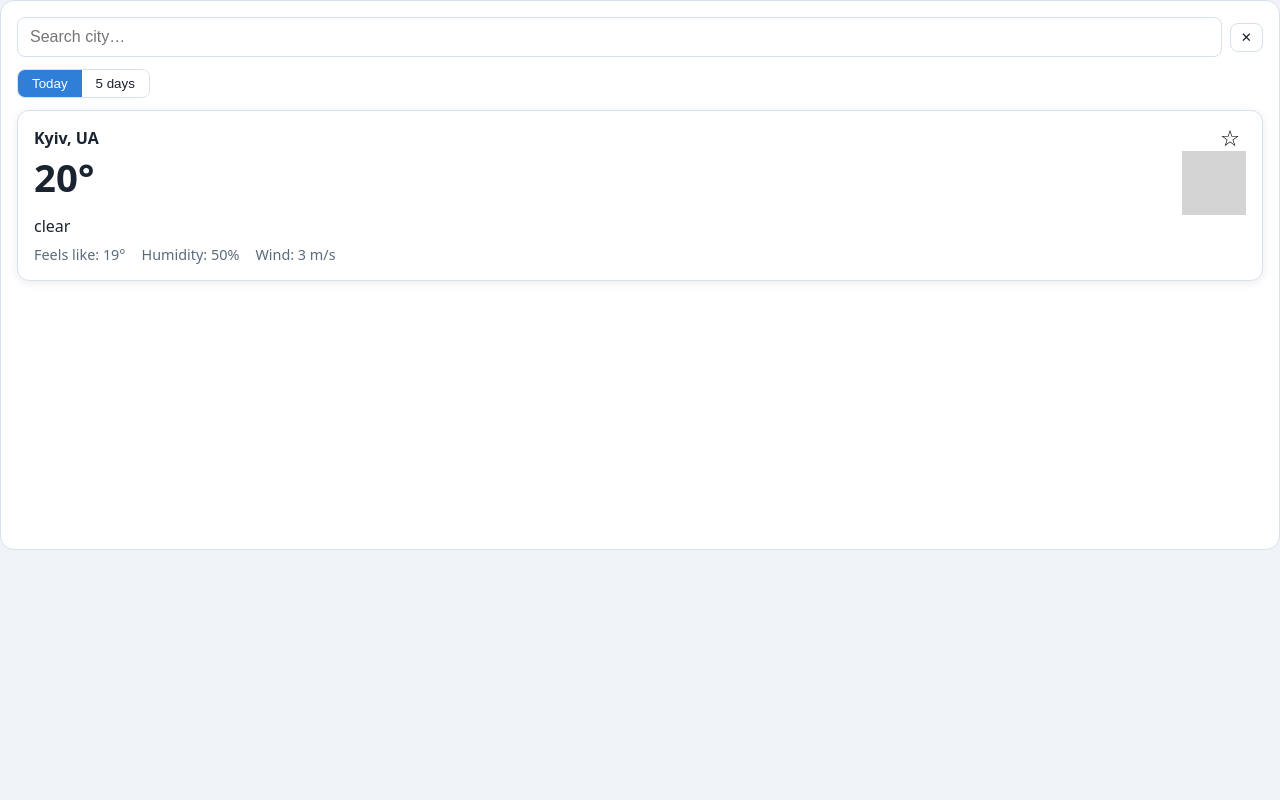
Test: WeatherBlock › shows max-favorites alert when adding a 6th favorite
The width and height of the screenshot is (1280, 800).
Check: the text "20°" is shown, box [34, 151, 94, 203]
What coordinates should you click on to do the following:
click the button named "add to favorites"
I would click on:
 (1230, 139)
Its box is [1214, 127, 1246, 151].
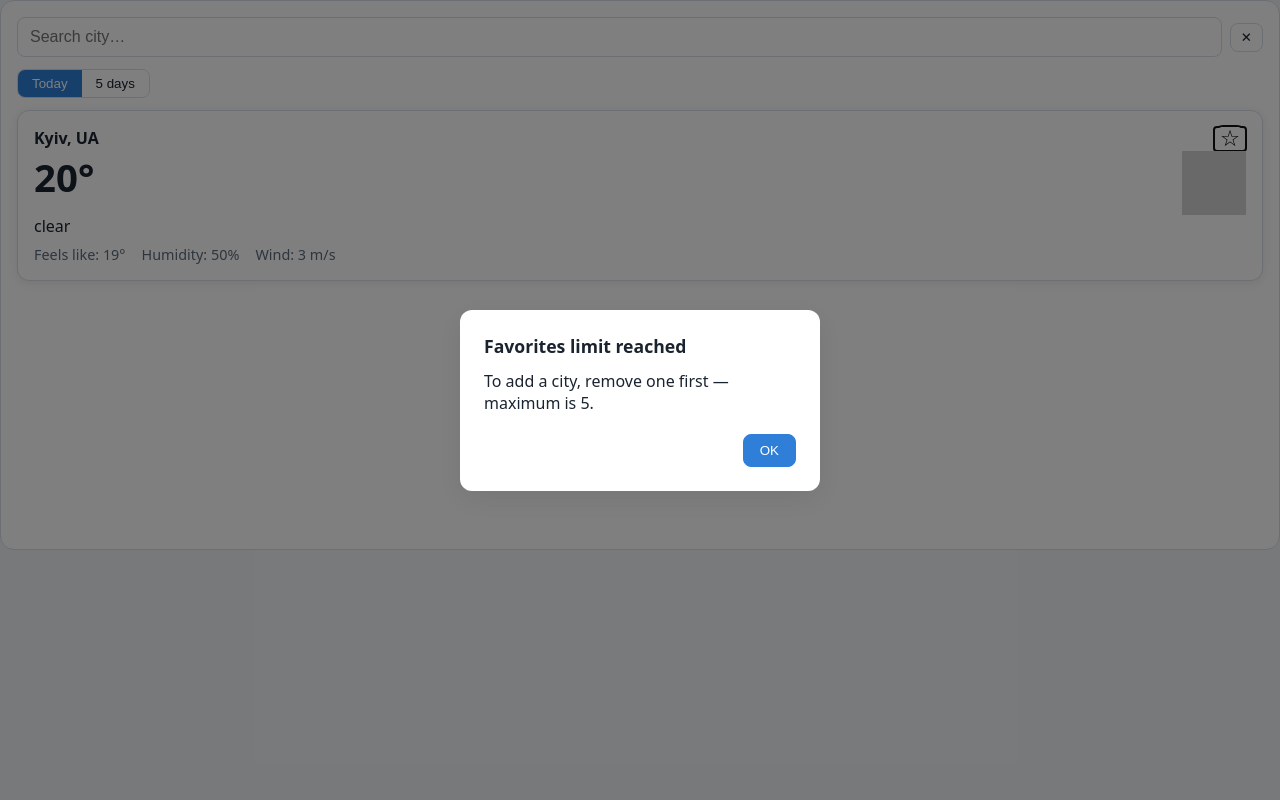
Check: the text "To add a city, remove one first — maximum is 5." is shown, box [484, 370, 729, 414]
